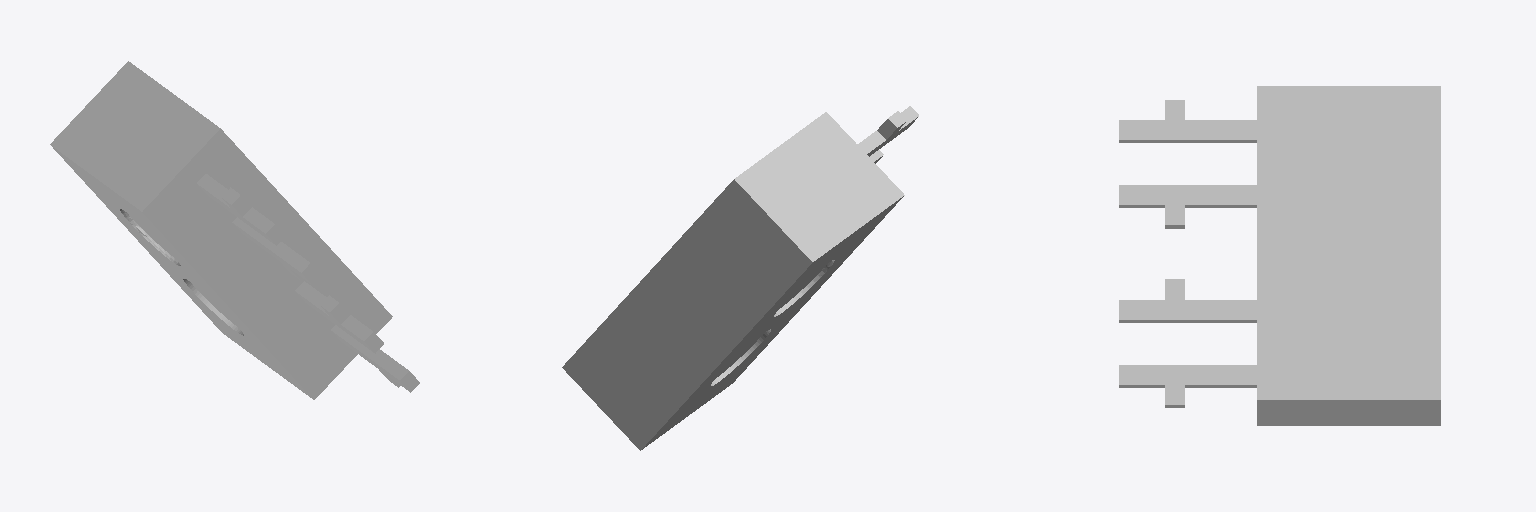
Rendered from IRIDIAepuck3D_Nov2019_Proximity4.obj.
3 renders of one model, left to right at view 1: azimuth 30°, elevation 25°; view 2: azimuth 150°, elevation 25°; view 3: azimuth 270°, elevation 25°, orthographic.
Visible parts, largest first — view 1: brep_85; view 2: brep_85; view 3: brep_85.
Part boxes in pixels (left/top/right/bottom): brep_85: left=50, top=61, right=419, bottom=399; brep_85: left=562, top=106, right=918, bottom=450; brep_85: left=1119, top=86, right=1440, bottom=425.
Size of the model in its own units: 0.0063 by 0.0071 by 0.007.